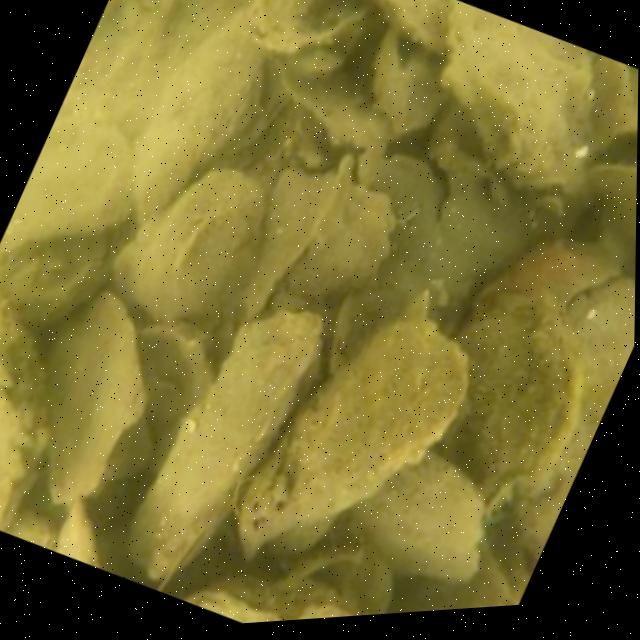Oyster-Closed: (0, 306, 47, 534)
Oyster-Indeterminate: (238, 324, 471, 559), (124, 310, 323, 584), (435, 298, 576, 520), (440, 0, 596, 196), (133, 19, 265, 219), (107, 167, 266, 328), (41, 297, 151, 505), (0, 125, 139, 257), (356, 462, 487, 590), (0, 235, 118, 321), (365, 0, 455, 57)
Oyster-Open: (584, 116, 638, 234)
